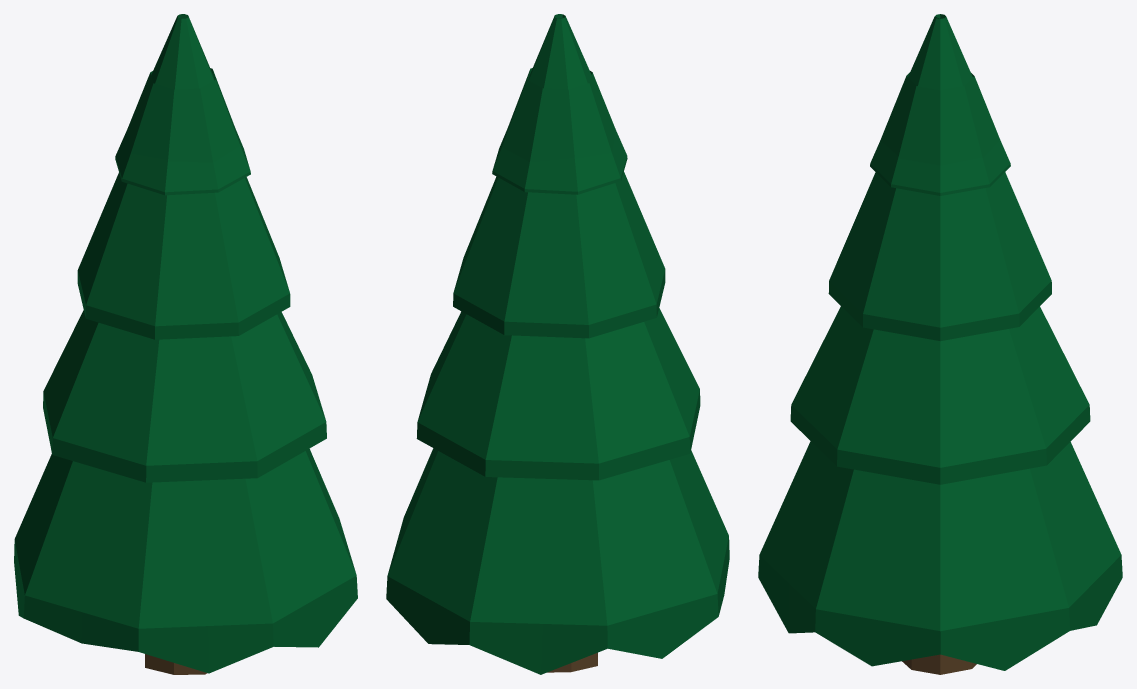
Rendered from pineTree.fbx.
3 renders of one model, left to right at view 1: azimuth 30°, elevation 25°; view 2: azimuth 150°, elevation 25°; view 3: azimuth 270°, elevation 25°, orthographic.
Parts seen in each view (by area): view 1: Cube; view 2: Cube; view 3: Cube.
Boxes of the visible parts, box(x1,y1,x2,y2) form: Cube: box(14, 14, 357, 674); Cube: box(386, 14, 729, 674); Cube: box(758, 14, 1122, 674).
Size of the model in its own units: 363 by 702 by 363.
